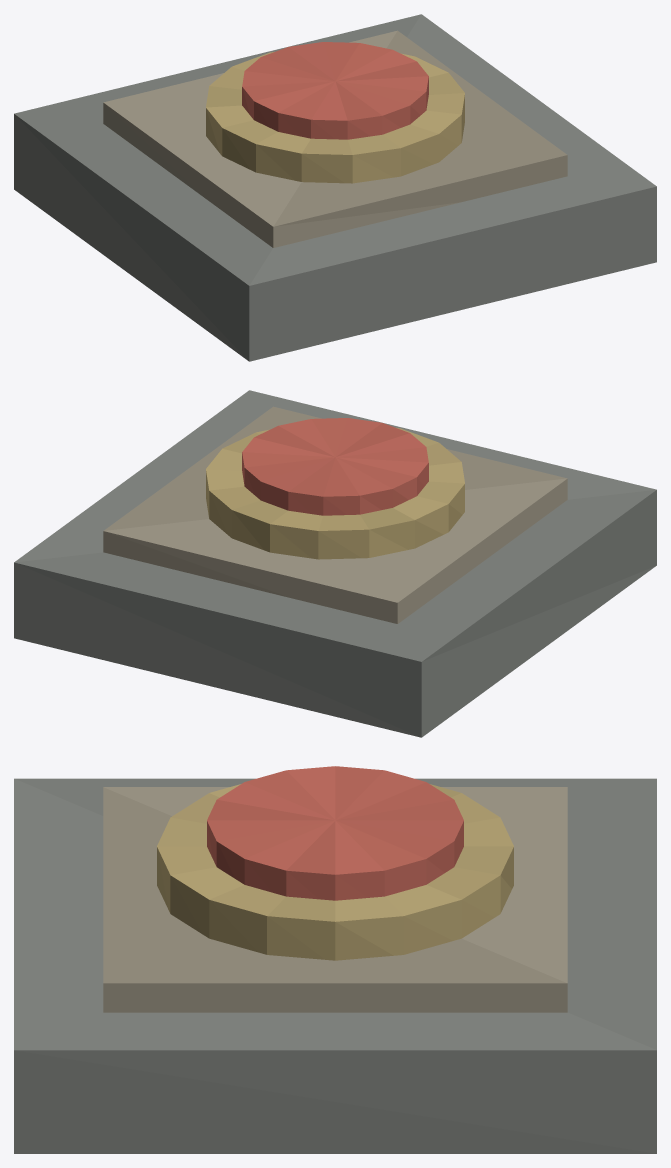
File: floor_button.glb
The picture shows the model from 3 angles, top to bottom: view 1: azimuth 30°, elevation 25°; view 2: azimuth 150°, elevation 25°; view 3: azimuth 270°, elevation 25°; orthographic projection. The views are drawn at different scales.
Visible parts, largest first — view 1: base, inset, button, ring; view 2: base, inset, button, ring; view 3: base, inset, button, ring.
Part boxes in pixels (x1,y1,x2,y2): base: [14, 14, 656, 361]; inset: [103, 30, 567, 247]; button: [242, 42, 428, 139]; ring: [206, 51, 464, 183]; base: [14, 390, 656, 737]; inset: [103, 406, 567, 623]; button: [242, 418, 428, 515]; ring: [206, 427, 464, 559]; base: [14, 778, 656, 1153]; inset: [103, 787, 567, 1012]; button: [207, 766, 463, 900]; ring: [157, 784, 513, 960].
Bounding box in the file's own units: 0.9 × 0.305 × 0.9.
